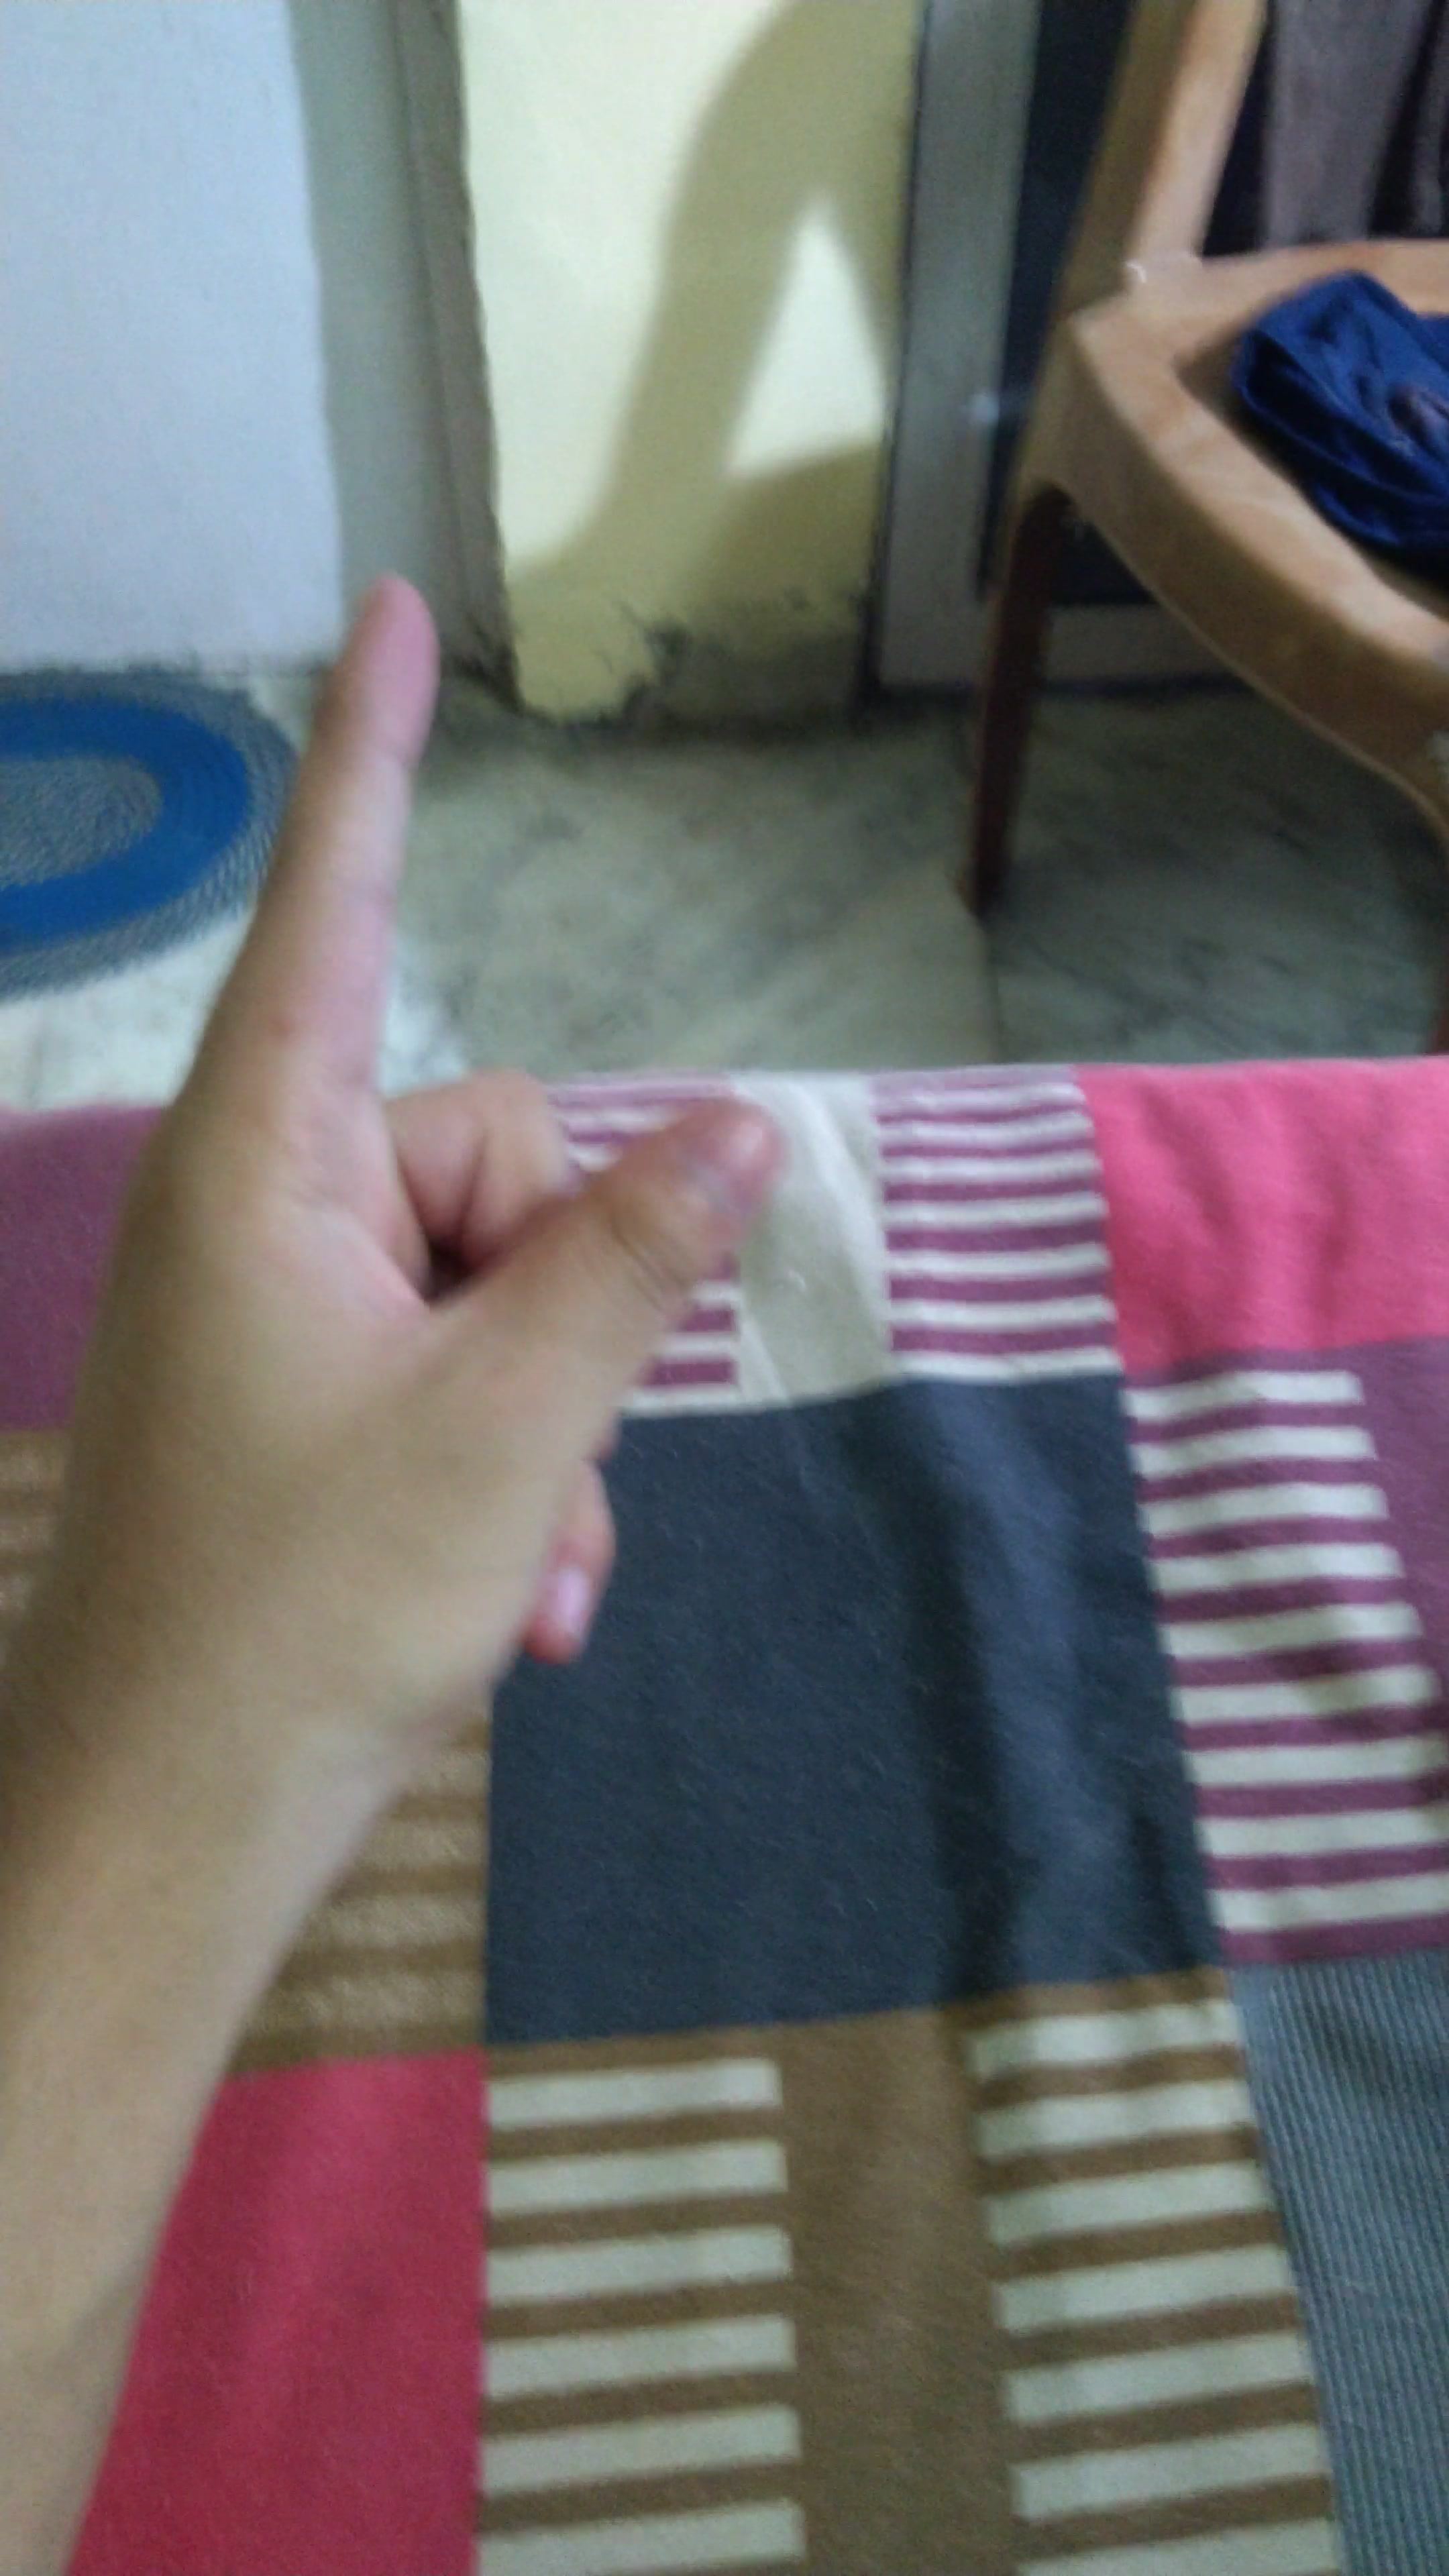hand: (74, 570, 807, 1897)
